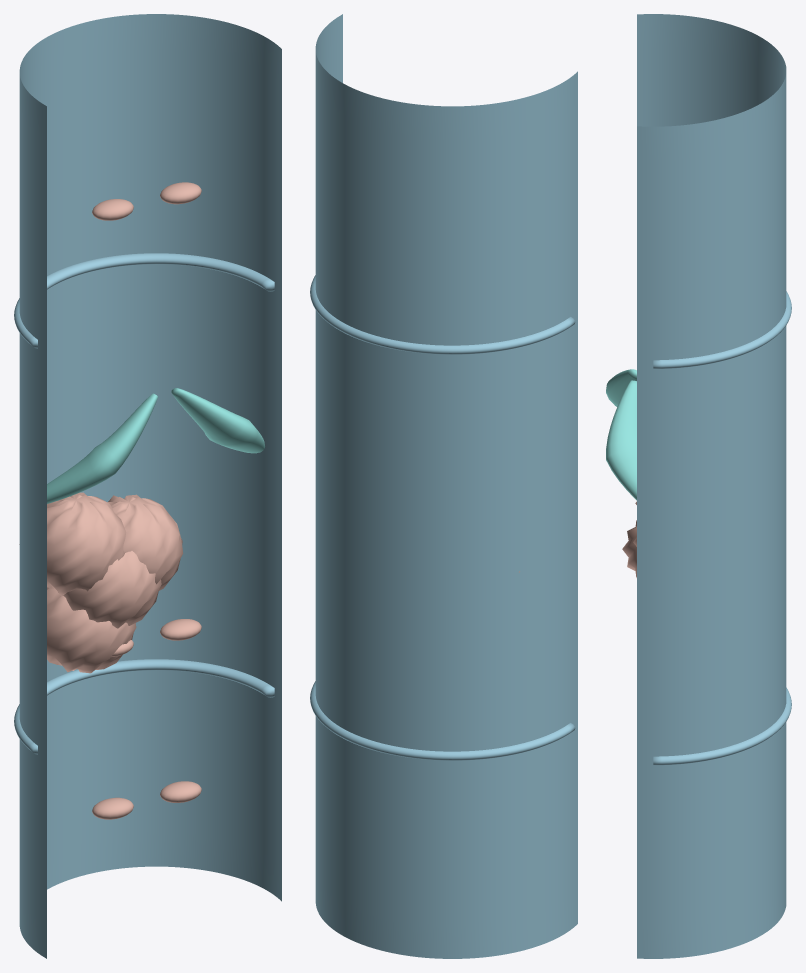
The model's file is vein-clot.glb.
3 views of the same model, side by side, from view 1: azimuth 30°, elevation 25°; view 2: azimuth 150°, elevation 25°; view 3: azimuth 270°, elevation 25° (orthographic). The views are drawn at different scales.
Visible parts, largest first — view 1: static #5596b7, static #bb7564, static #49bdb4; view 2: static #5596b7; view 3: static #5596b7, static #49bdb4, static #bb7564.
Boxes of the visible parts, <box> form: static #5596b7: <box>14,14,281,958</box>; static #bb7564: <box>19,182,201,819</box>; static #49bdb4: <box>47,388,264,503</box>; static #5596b7: <box>310,14,577,958</box>; static #5596b7: <box>637,14,791,958</box>; static #49bdb4: <box>606,369,636,500</box>; static #bb7564: <box>622,501,636,577</box>.
Size of the model in its own units: 0.127 by 0.42 by 0.085.
